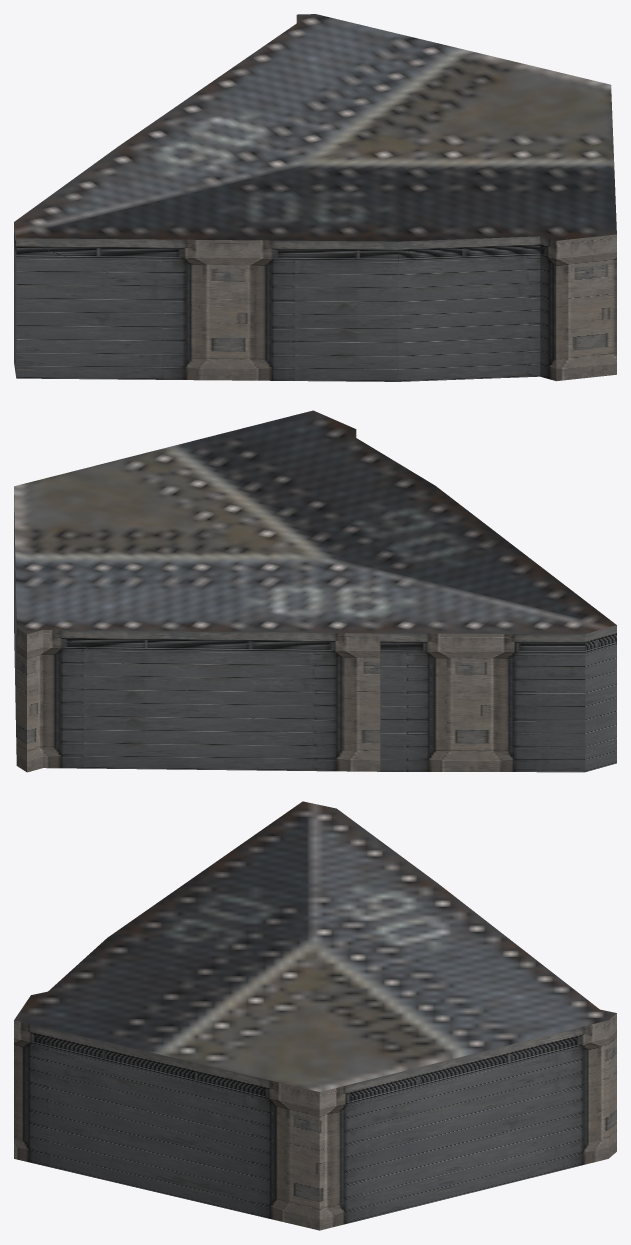
The model's file is hangar_heavy_06.glb.
The picture shows the model from 3 angles, top to bottom: view 1: azimuth 30°, elevation 25°; view 2: azimuth 150°, elevation 25°; view 3: azimuth 270°, elevation 25°; orthographic projection.
Parts seen in each view (by area): view 1: buildings/saxarba/hangar_heavy/hangar_heavy_06; view 2: buildings/saxarba/hangar_heavy/hangar_heavy_06; view 3: buildings/saxarba/hangar_heavy/hangar_heavy_06.
Part boxes in pixels (x1,y1,x2,y2): buildings/saxarba/hangar_heavy/hangar_heavy_06: [14, 14, 616, 381]; buildings/saxarba/hangar_heavy/hangar_heavy_06: [14, 410, 616, 772]; buildings/saxarba/hangar_heavy/hangar_heavy_06: [14, 801, 616, 1230].
Bounding box in the file's own units: 81 × 18 × 71.
